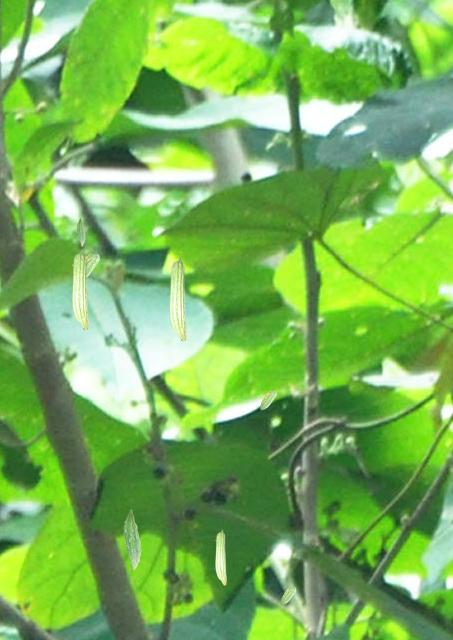ampalaya: (169, 256, 186, 341), (71, 249, 88, 330), (123, 509, 141, 570), (215, 529, 227, 585), (259, 390, 277, 410), (87, 253, 100, 277), (280, 586, 296, 605), (76, 217, 85, 247)
